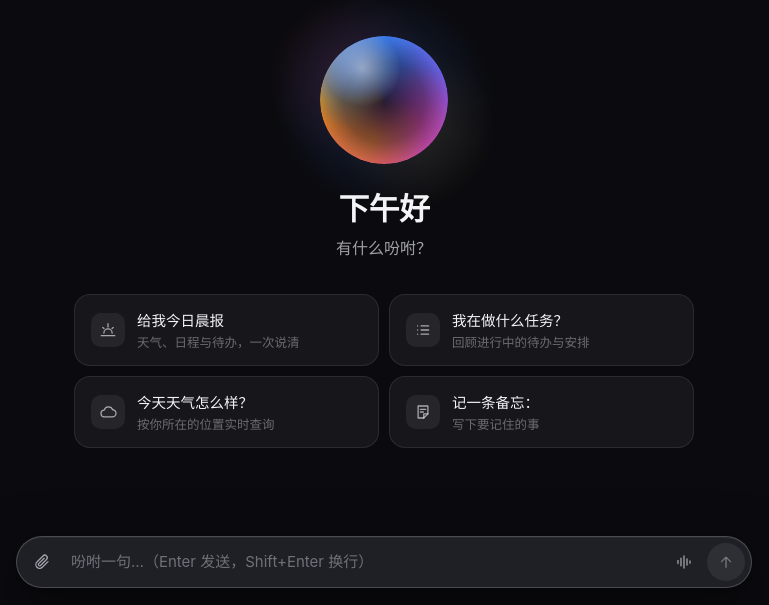
Test: 消息级操作 › 逐 token 到达的回答按帧合并后完整渲染为 Markdown（跨 token 的粗体不丢）
Type "写两段" into the text box with placeholder "吩咐一句…（Enter 发送，Shift+Enter 换行）" at coordinates (363, 562), box top-left (65, 543), bottom-right (661, 581)
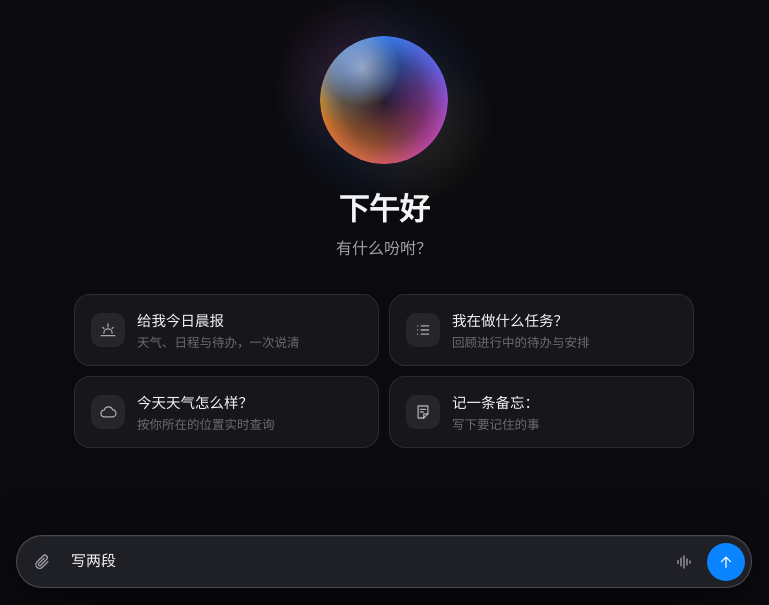
Press Enter in the text box with placeholder "吩咐一句…（Enter 发送，Shift+Enter 换行）", box top-left (65, 542), bottom-right (661, 581)
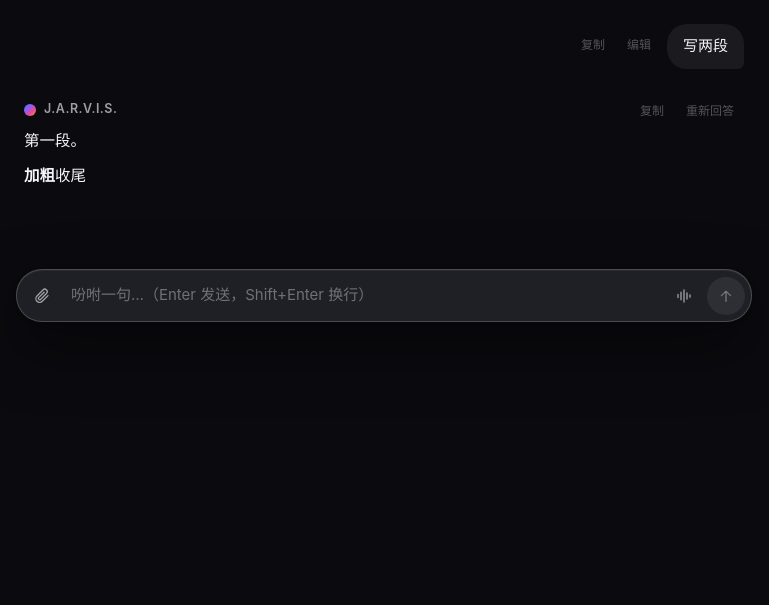
Result: the text "加粗" is shown at top-left (24, 166), bottom-right (55, 185)
